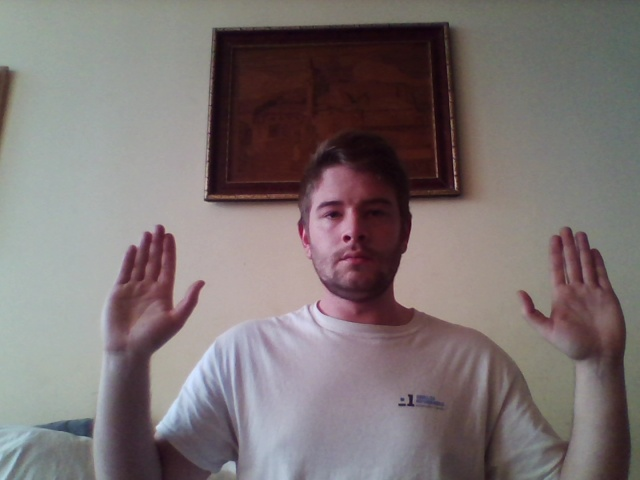prekrasno: (98, 222, 627, 360)
